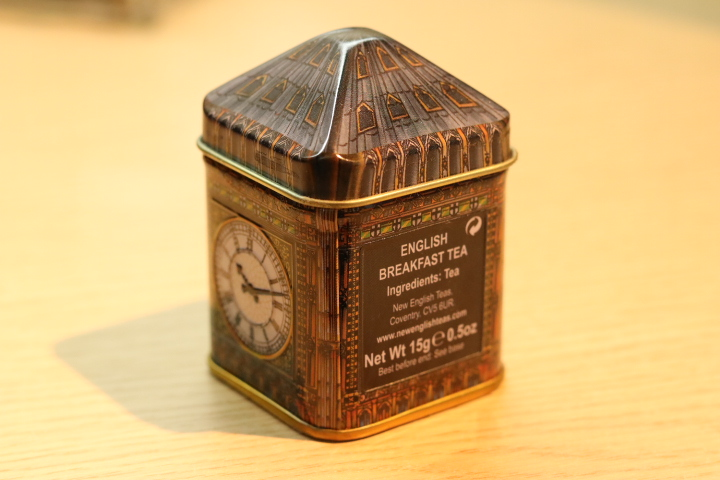Big Ben: (183, 17, 552, 460)
